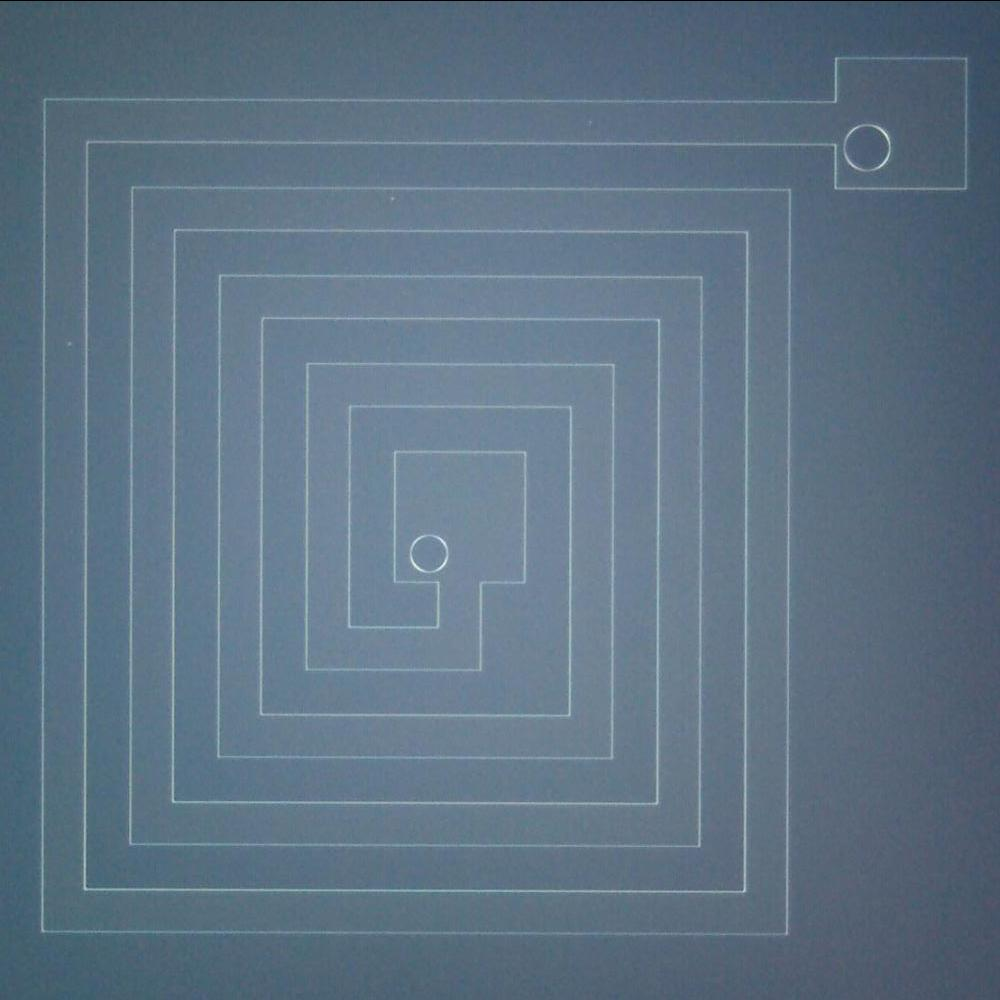circle: (840, 122, 898, 172), (406, 532, 454, 576)
